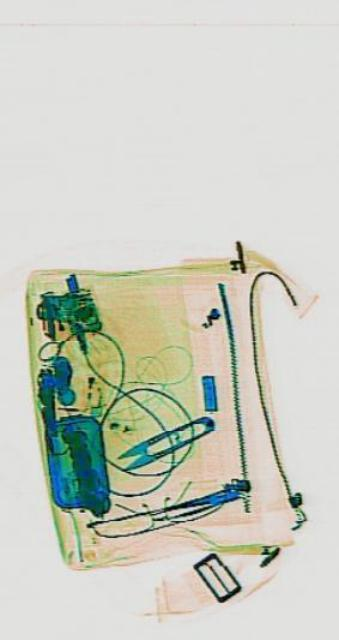Scissors: (115, 404, 214, 476)
